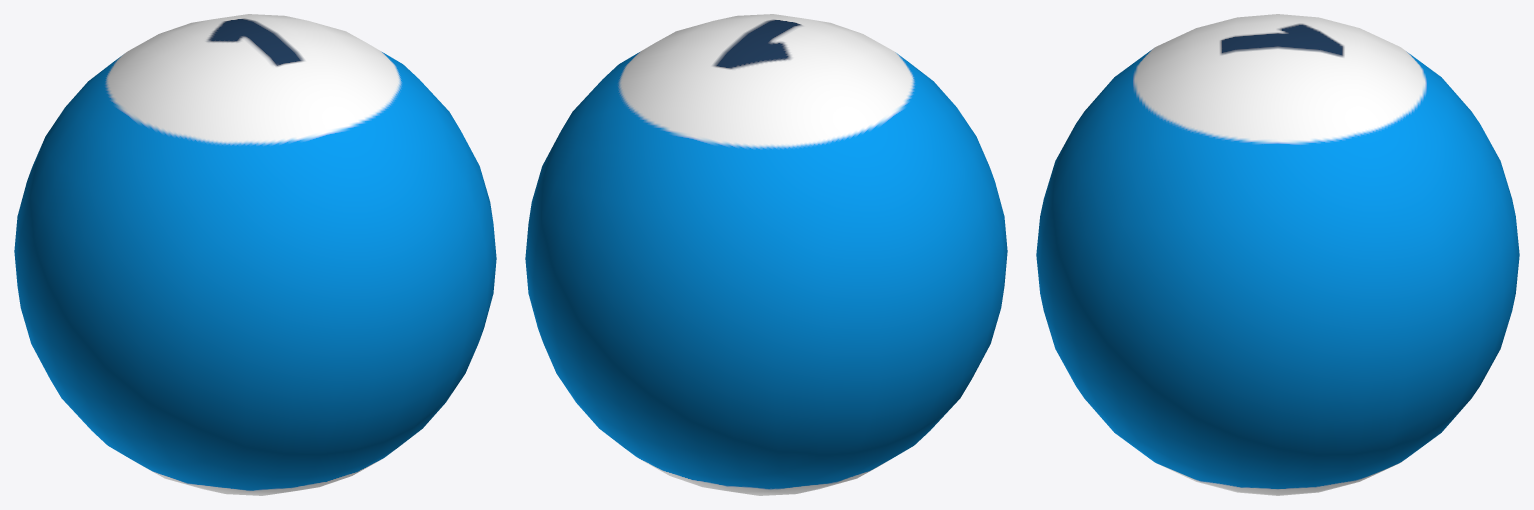
File: balls.fbx
3 views of the same model, side by side, from view 1: azimuth 30°, elevation 25°; view 2: azimuth 150°, elevation 25°; view 3: azimuth 270°, elevation 25° (orthographic).
Visible parts, largest first — view 1: ball01; view 2: ball01; view 3: ball01.
Part boxes in pixels (<box>): ball01: <box>14,14,496,495</box>; ball01: <box>525,14,1007,495</box>; ball01: <box>1036,14,1519,495</box>.
Size of the model in its own units: 6 by 6 by 6.
Materials: 1 (1 with a texture image).
